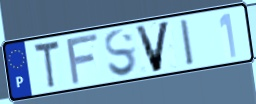1: (218, 12, 238, 59)
F: (65, 31, 101, 88)
I: (178, 17, 197, 68)
S: (103, 27, 139, 79)
T: (32, 39, 62, 91)
V: (133, 19, 173, 75)
